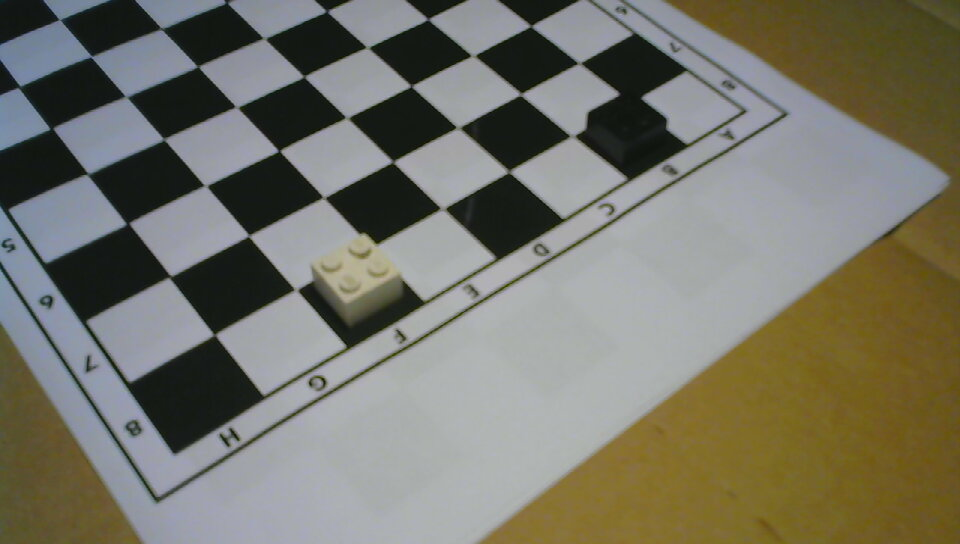bp: (586, 90, 668, 166)
wp: (310, 234, 404, 330)
